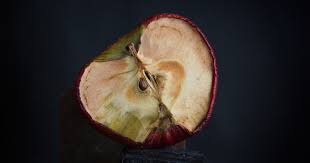damaged_apple: (79, 15, 215, 145)
